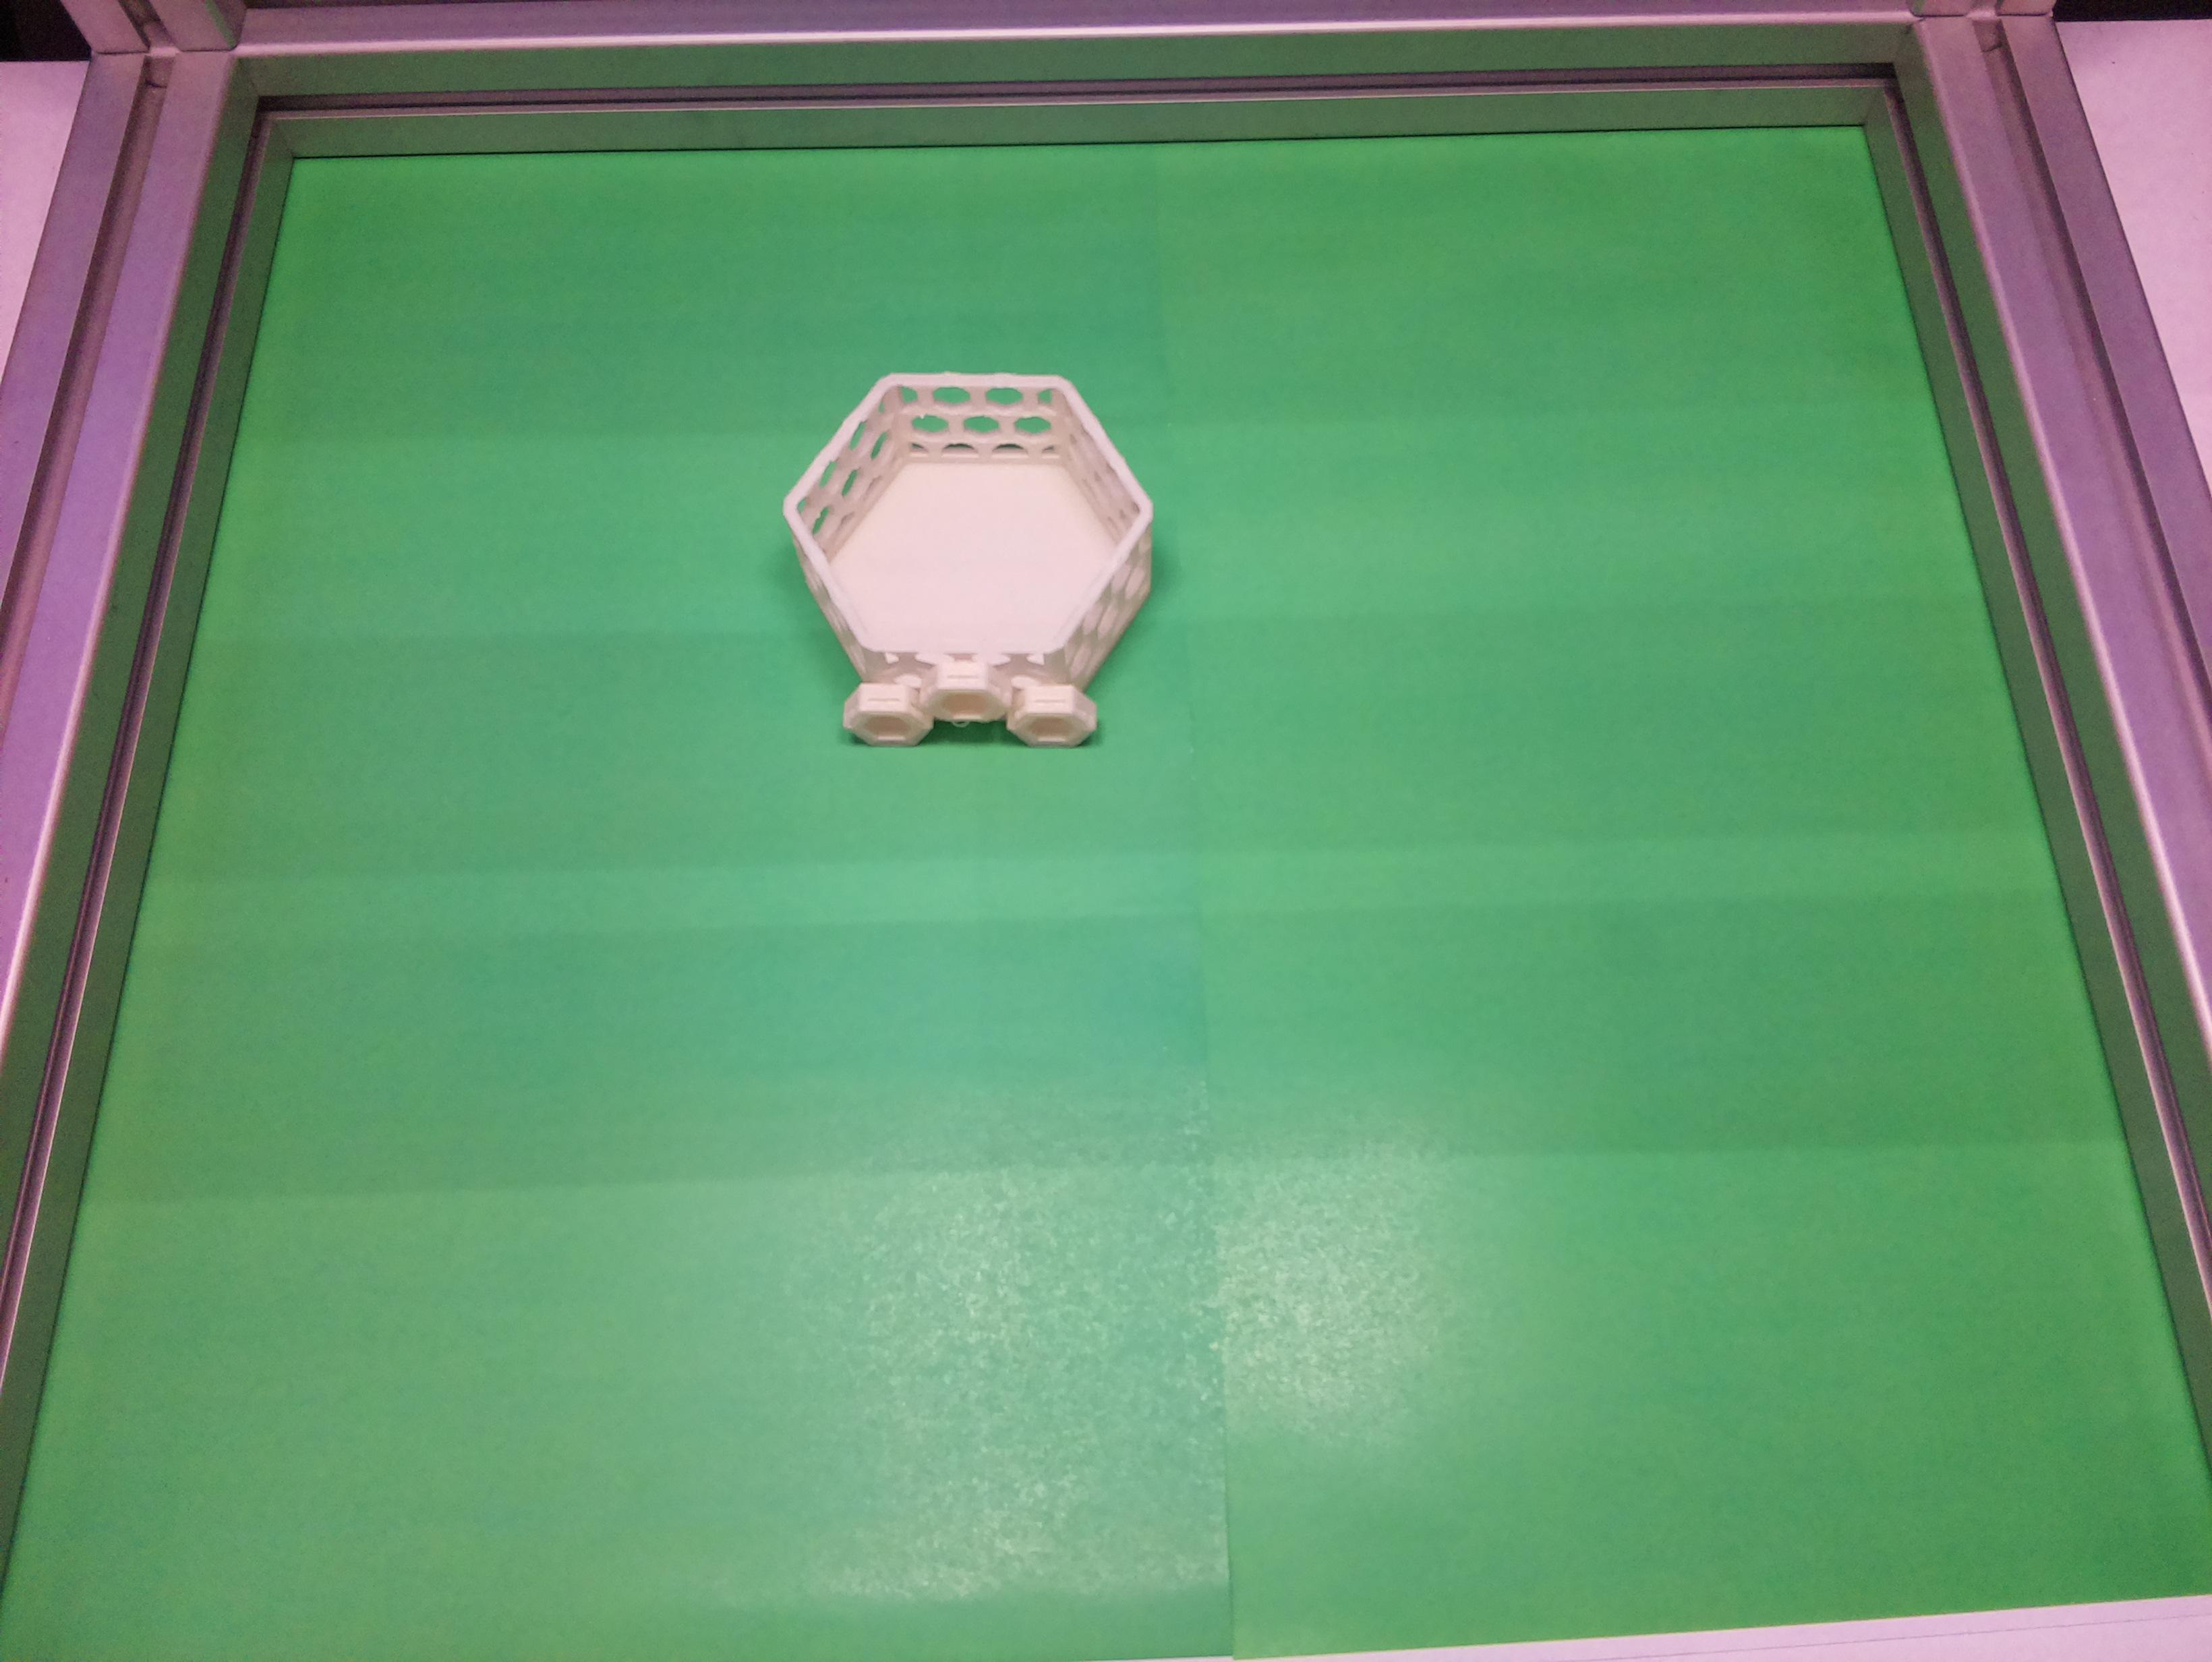bottle_holder: (782, 372, 1155, 747)
